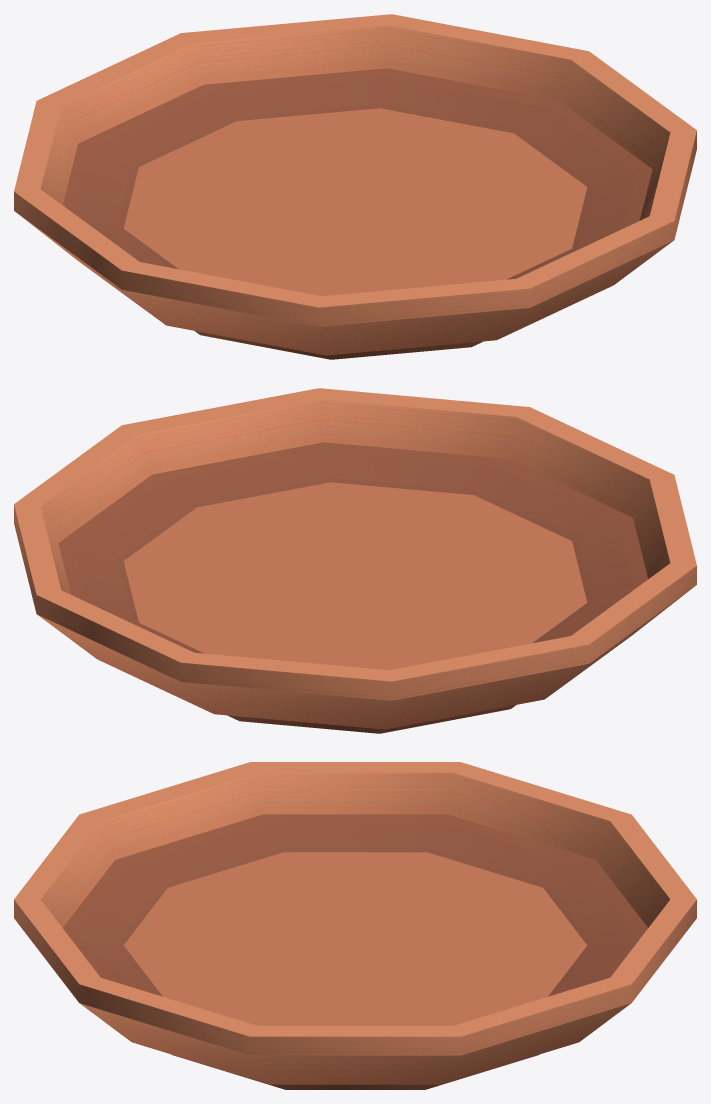
File: tajine.glb
3 views of the same model, one above another, from view 1: azimuth 30°, elevation 25°; view 2: azimuth 150°, elevation 25°; view 3: azimuth 270°, elevation 25° (orthographic). The views are drawn at different scales.
Visible parts, largest first — view 1: tajine; view 2: tajine; view 3: tajine.
Boxes of the visible parts, <box> form: tajine: <box>14,14,696,359</box>; tajine: <box>14,388,696,733</box>; tajine: <box>14,762,696,1089</box>.
Bounding box in the file's own units: 0.8191 × 0.138 × 0.8613.
Materials: 1 (1 with a texture image).
